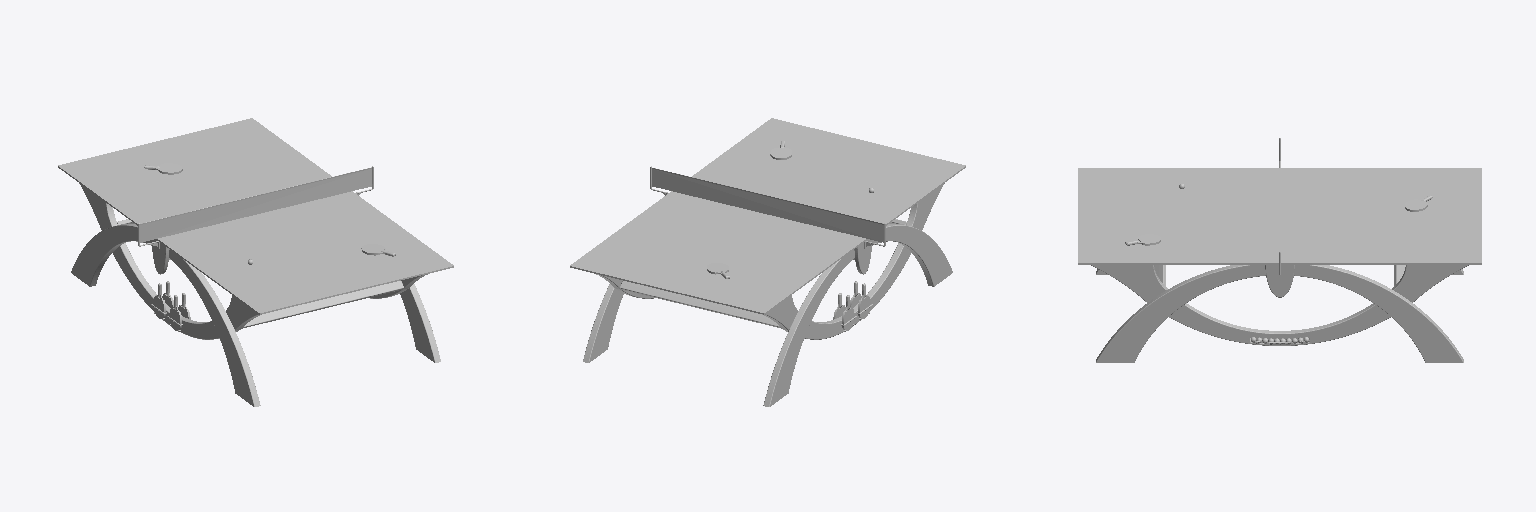
The model's file is table2.obj.
3 renders of one model, left to right at view 1: azimuth 30°, elevation 25°; view 2: azimuth 150°, elevation 25°; view 3: azimuth 270°, elevation 25°, orthographic.
Visible parts, largest first — view 1: Layer_Nero, Layer_Metallo_Nero, Layer_Blu, Layer_Rete, Layer_Bianco; view 2: Layer_Nero, Layer_Blu, Layer_Metallo_Nero, Layer_Rete, Layer_Bianco; view 3: Layer_Nero, Layer_Metallo_Nero, Layer_Blu.
Part boxes in pixels (left/top/right/bottom): Layer_Nero: left=58, top=118, right=453, bottom=331; Layer_Metallo_Nero: left=71, top=166, right=440, bottom=406; Layer_Blu: left=62, top=120, right=444, bottom=310; Layer_Rete: left=140, top=169, right=371, bottom=242; Layer_Bianco: left=58, top=121, right=443, bottom=305; Layer_Nero: left=570, top=118, right=965, bottom=331; Layer_Blu: left=576, top=129, right=912, bottom=311; Layer_Metallo_Nero: left=583, top=166, right=952, bottom=406; Layer_Rete: left=652, top=169, right=883, bottom=242; Layer_Bianco: left=574, top=123, right=959, bottom=311; Layer_Nero: left=1078, top=168, right=1481, bottom=264; Layer_Metallo_Nero: left=1091, top=138, right=1468, bottom=362; Layer_Blu: left=1081, top=217, right=1478, bottom=261.
Bounding box in the file's own units: 184 × 91.75 × 274.